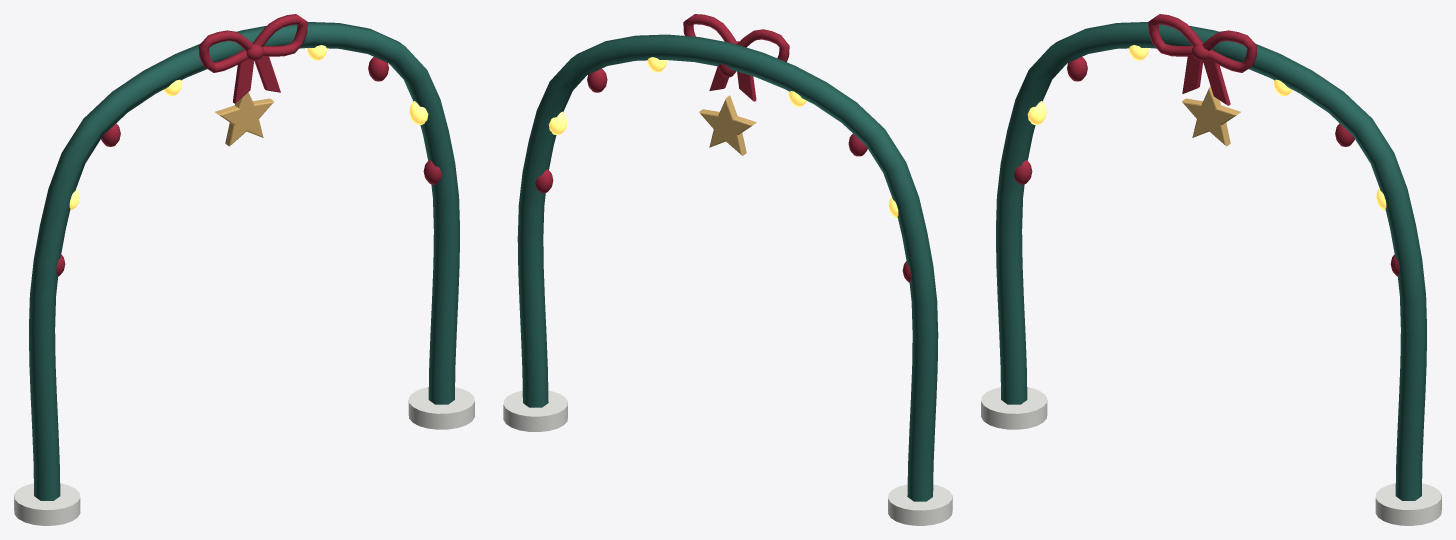
Rendered from christmas-storybook-festive-light-arch-e02c1408__18719.glb.
The picture shows the model from 3 angles, left to right: view 1: azimuth 30°, elevation 25°; view 2: azimuth 150°, elevation 25°; view 3: azimuth 330°, elevation 25°; orthographic projection. The views are drawn at different scales.
Parts seen in each view (by area): view 1: pine, berry, cream, brass, light; view 2: pine, cream, berry, brass, light; view 3: pine, berry, cream, brass, light.
Part boxes in pixels (box(x1,y1,x2,y2)): pine: box(29, 22, 459, 500); berry: box(56, 14, 441, 276); cream: box(14, 387, 474, 525); brass: box(215, 92, 273, 146); light: box(69, 45, 428, 210); pine: box(517, 34, 938, 501); cream: box(503, 390, 952, 525); berry: box(535, 14, 911, 282); brass: box(699, 95, 756, 155); light: box(548, 57, 898, 218); pine: box(996, 22, 1426, 500); berry: box(1014, 14, 1399, 276); cream: box(981, 387, 1441, 525); brass: box(1182, 86, 1240, 146); light: box(1027, 45, 1386, 210).
Size of the model in its own units: 2.98 by 2.81 by 0.3798.
